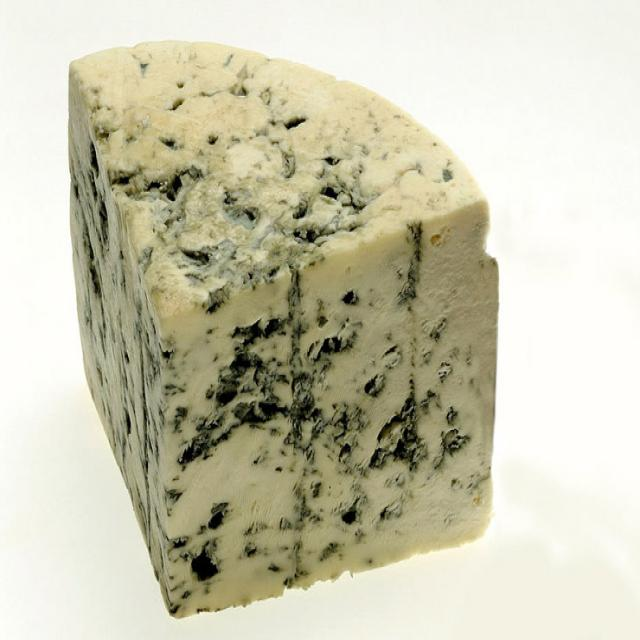cheese: (70, 40, 499, 618)
